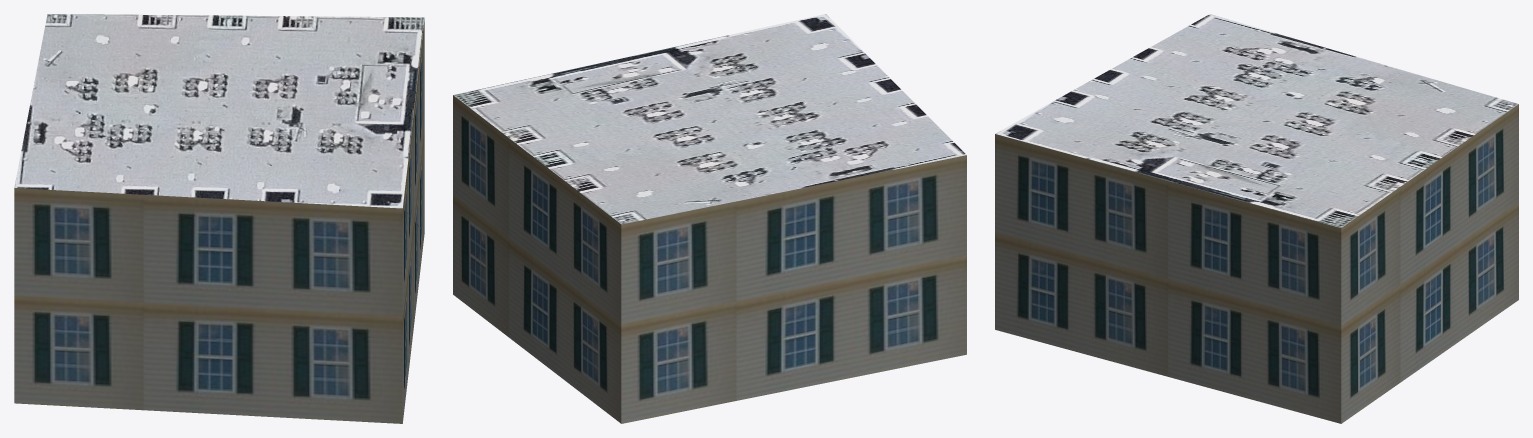
The model's file is ResTex__5298.fbx.
The picture shows the model from 3 angles, left to right: view 1: azimuth 30°, elevation 25°; view 2: azimuth 150°, elevation 25°; view 3: azimuth 270°, elevation 25°; orthographic projection. The views are drawn at different scales.
Parts seen in each view (by area): view 1: CityEngineMaterial_7_m, CityEngineMaterial_8_m; view 2: CityEngineMaterial_7_m, CityEngineMaterial_8_m; view 3: CityEngineMaterial_7_m, CityEngineMaterial_8_m.
Part boxes in pixels (x1,y1,x2,y2): CityEngineMaterial_7_m: [14, 19, 424, 423]; CityEngineMaterial_8_m: [14, 14, 424, 208]; CityEngineMaterial_7_m: [453, 95, 966, 423]; CityEngineMaterial_8_m: [453, 14, 966, 224]; CityEngineMaterial_7_m: [995, 104, 1518, 423]; CityEngineMaterial_8_m: [995, 14, 1518, 227].
Bounding box in the file's own units: 14.07 × 6 × 14.54.
2 materials, 2 textured.
